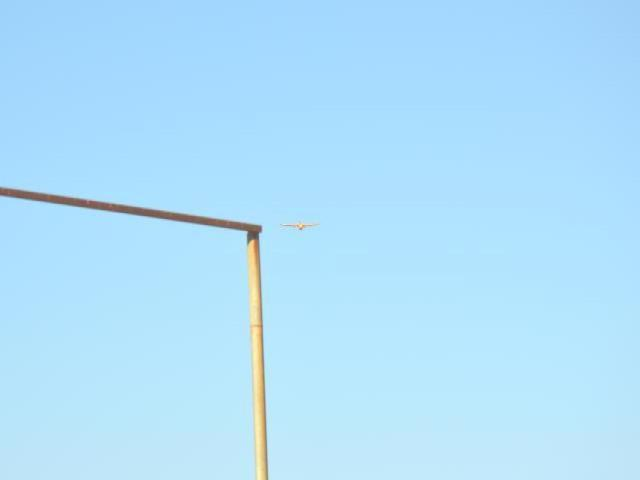iha: (279, 220, 321, 230)
